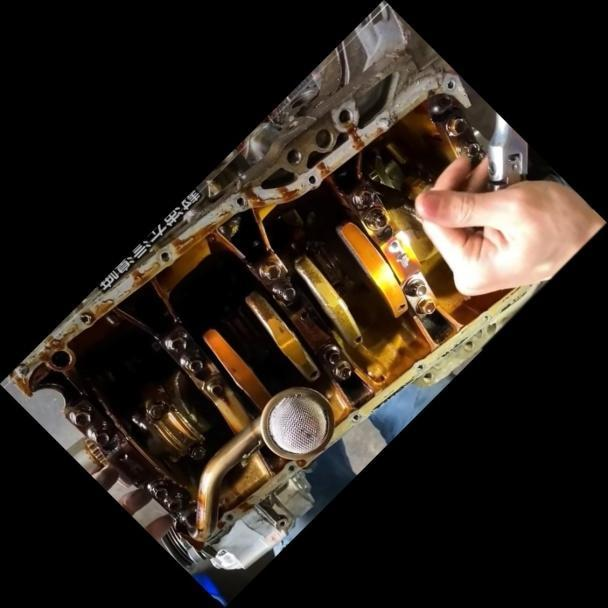hole: (273, 515, 290, 532), (157, 248, 173, 264), (77, 310, 92, 325), (442, 77, 457, 92), (304, 172, 318, 186), (348, 411, 361, 424), (222, 510, 235, 523), (234, 194, 246, 207), (479, 312, 490, 323), (414, 361, 424, 372), (285, 463, 295, 473)
